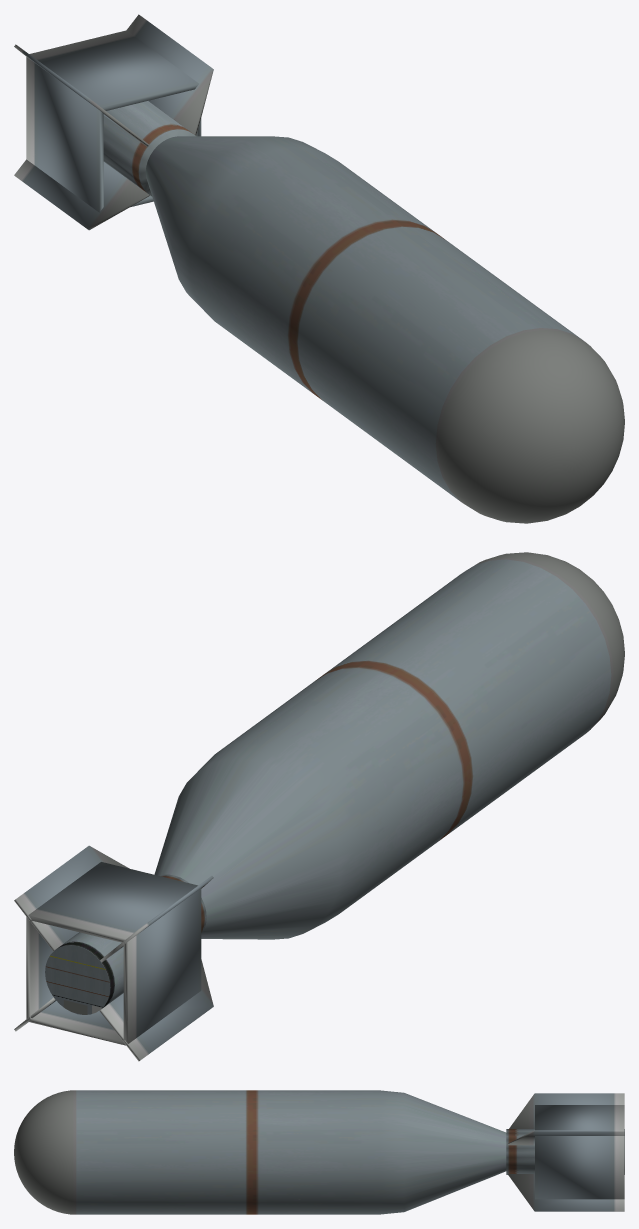
File: ww2bomb.fbx
3 views of the same model, one above another, from view 1: azimuth 30°, elevation 25°; view 2: azimuth 150°, elevation 25°; view 3: azimuth 270°, elevation 25° (orthographic). The views are drawn at different scales.
Parts seen in each view (by area): view 1: ww2bomb; view 2: ww2bomb; view 3: ww2bomb.
Part boxes in pixels (x1,y1,x2,y2): ww2bomb: [14, 14, 624, 523]; ww2bomb: [14, 552, 624, 1061]; ww2bomb: [14, 1090, 624, 1214].
Bounding box in the file's own units: 0.307 × 1.51 × 0.307.
